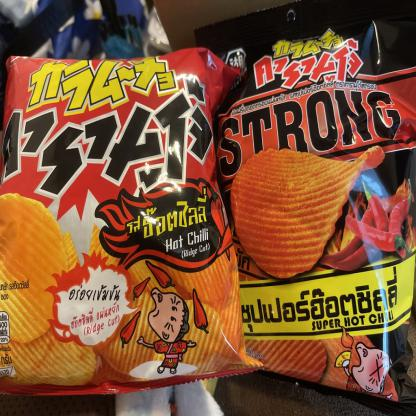potatochip: (0, 47, 265, 396), (193, 26, 416, 415)
